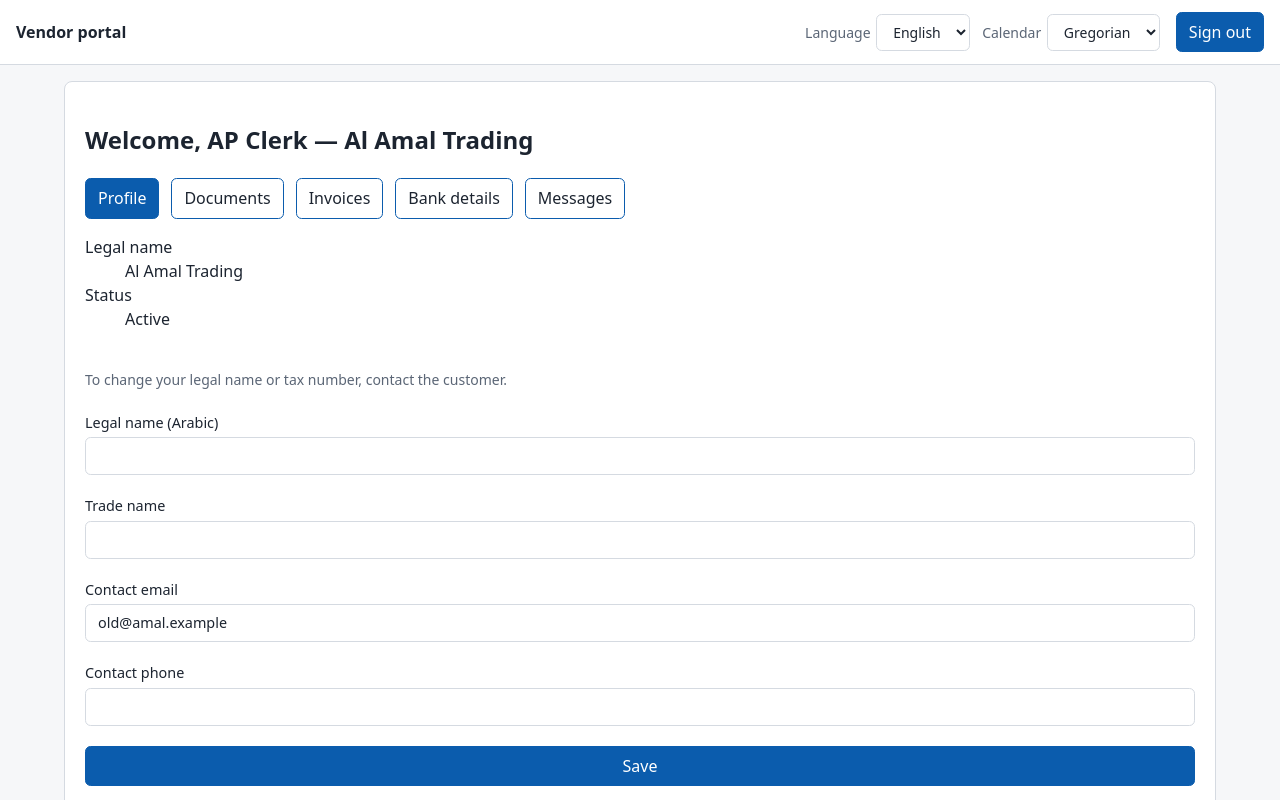
Test: portal home › shows the profile with the legal name locked and saves the editable fields with the antiforgery header
Expected: the heading "Welcome, AP Clerk — Al Amal Trading" is shown, 85,123 -> 534,156
In the field labelled "Trade name": (640, 540) 85,521 -> 1195,559, type "Amal Co"
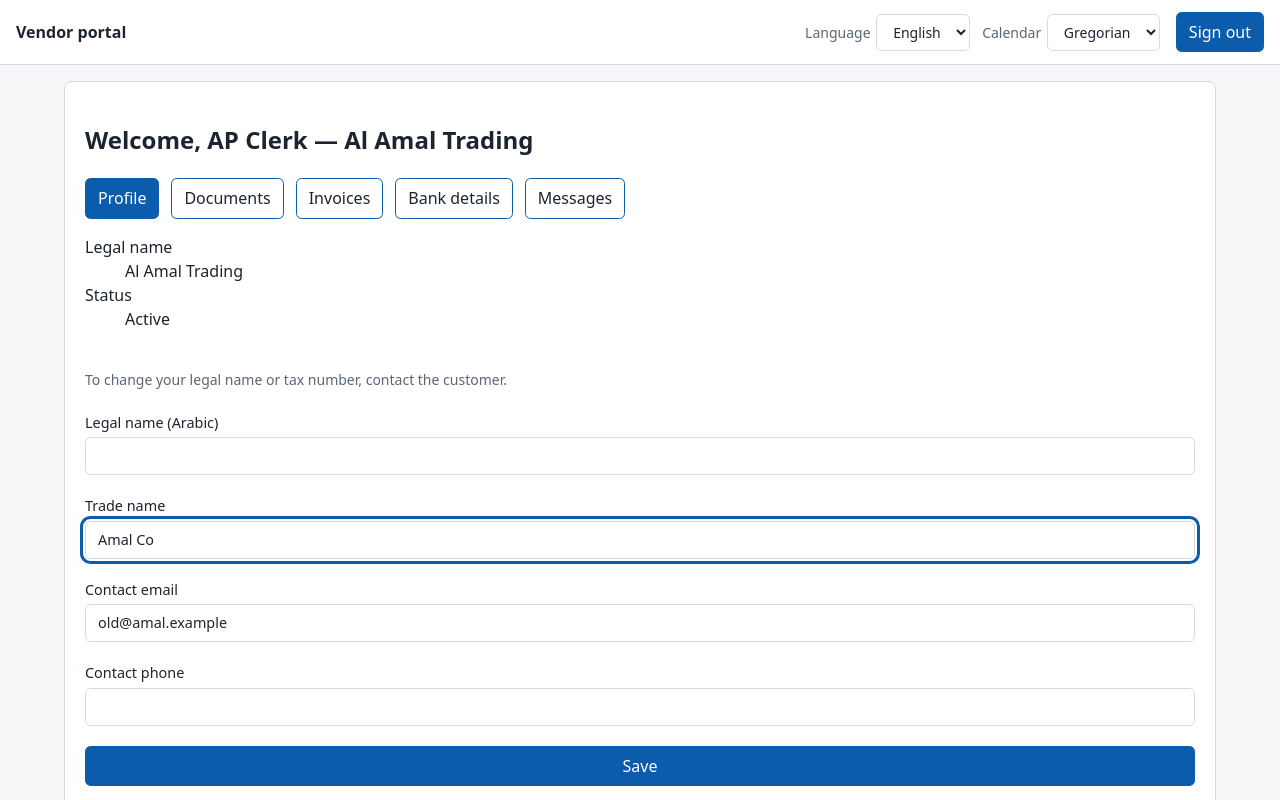
Click the button "Save": (640, 766) 85,746 -> 1195,786
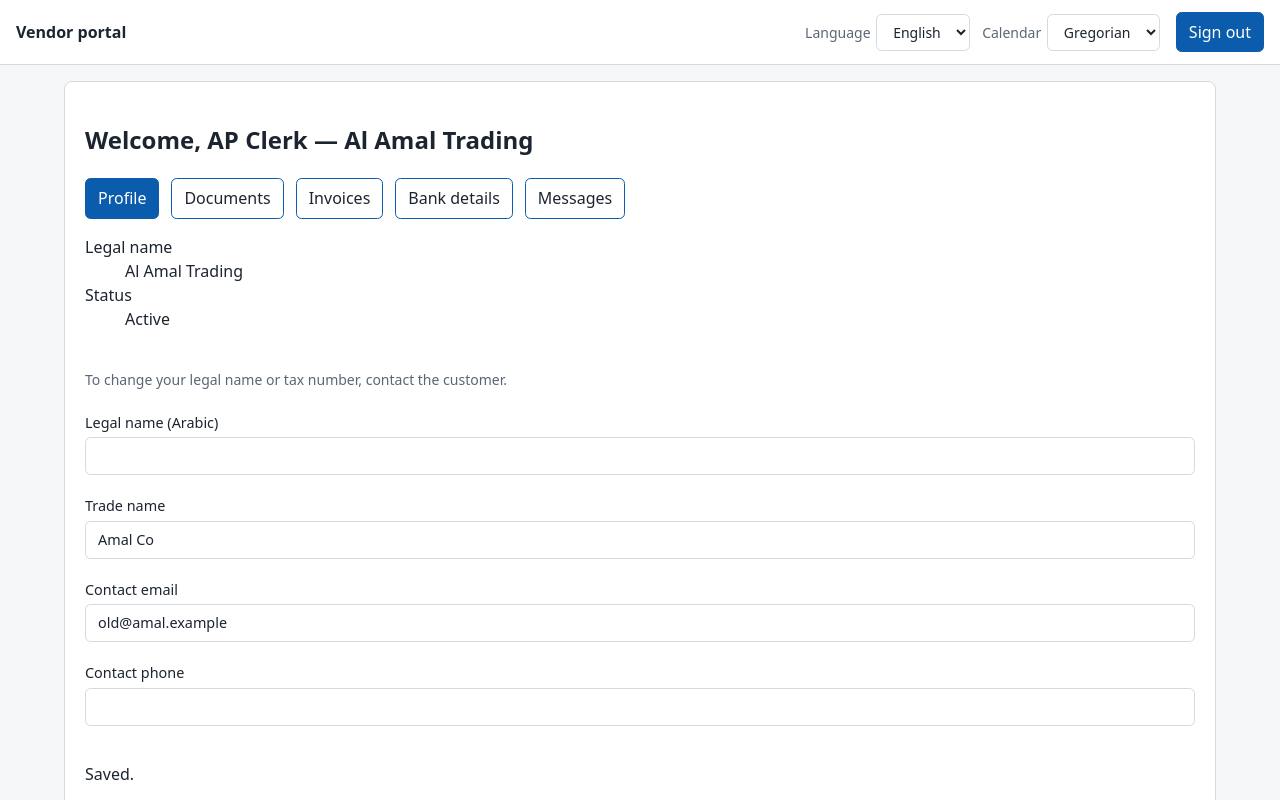
Expected: the text "Saved." is shown, 85,763 -> 134,785
